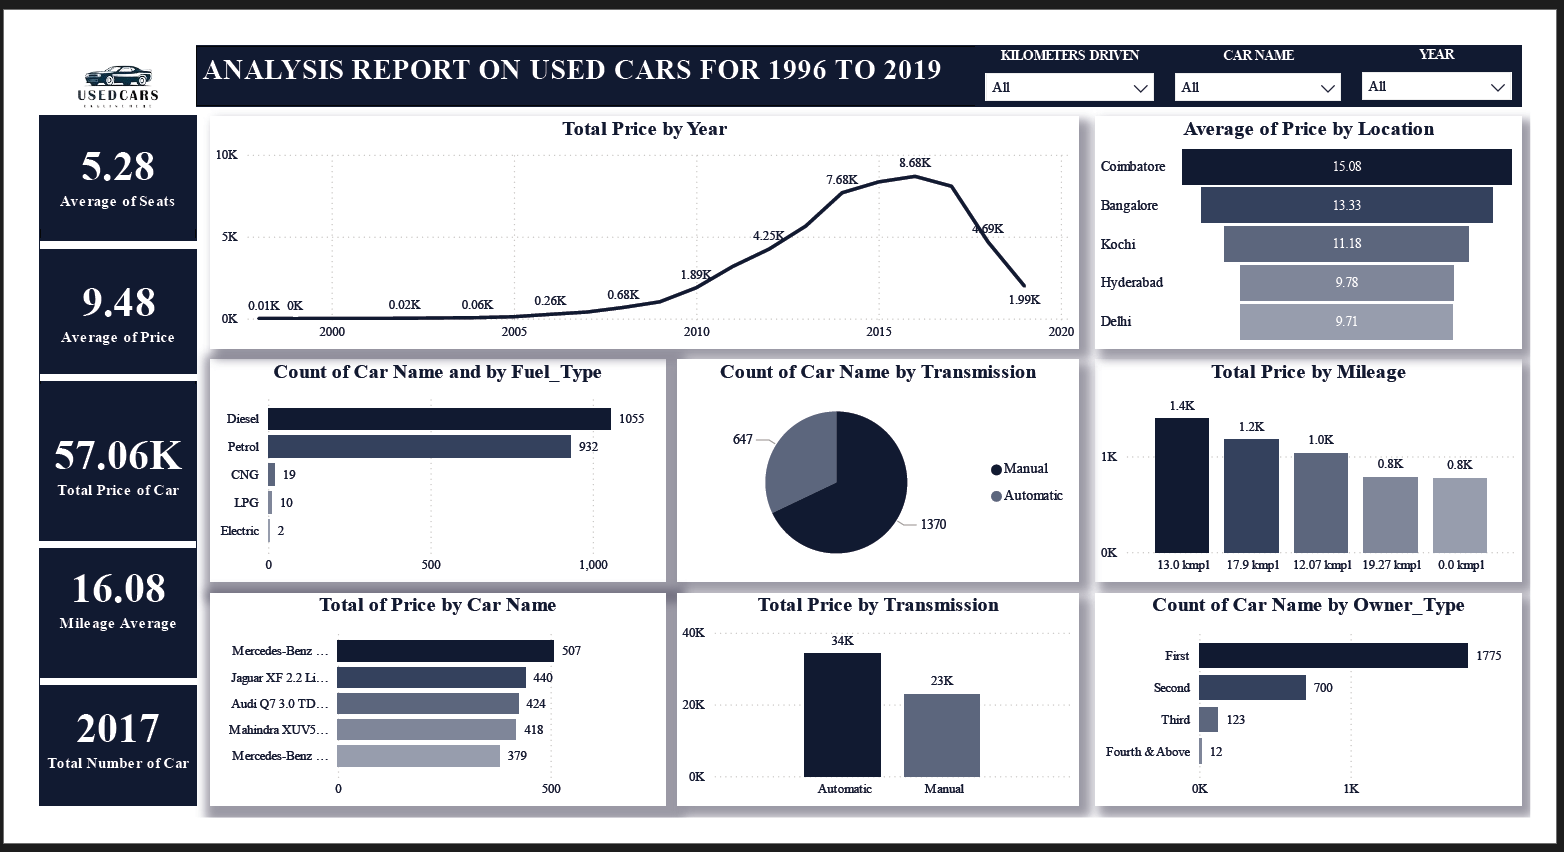

The dashboard page shown, as its layout file describes it:
{"tool":"powerbi","page":{"name":"Dashbaord","canvas":[1420,740],"ordinal":0},"visuals":[{"type":"textbox","box":[9.8,77.2,147.8,652.2],"z":0},{"type":"textbox","box":[157.6,9.8,1244.6,57.6],"z":1000},{"type":"clusteredBarChart","title":"Count of Car Name and by Fuel_Type","fields":{"Category":["used_cars_data (1).Fuel_Type"],"Y":["Count(used_cars_data (1).Name)"]},"box":[170.7,306.5,431.5,210.9],"z":2000},{"type":"lineChart","title":"Total Price by Year","fields":{"Category":["used_cars_data (1).Year"],"Y":["Sum(used_cars_data (1).Price)"]},"box":[170.7,77.2,822.8,218.5],"z":3000},{"type":"columnChart","title":"Total Price by Mileage","fields":{"Category":["used_cars_data (1).Mileage"],"Y":["Sum(used_cars_data (1).Price)"]},"box":[1008.7,306.5,403.3,210.9],"z":4000},{"type":"funnel","fields":{"Category":["used_cars_data (1).Location"],"Y":["Avg(used_cars_data (1).Price)"]},"box":[1008.7,77.2,403.3,218.5],"z":5000},{"type":"pieChart","title":"Count of Car Name by Transmission","fields":{"Category":["used_cars_data (1).Transmission"],"Y":["Count(used_cars_data (1).Name)"]},"box":[613,306.5,380.4,210.9],"z":6000},{"type":"clusteredBarChart","title":"Total of Price by Car Name","fields":{"Category":["used_cars_data (1).Name"],"Y":["Sum(used_cars_data (1).Price)"]},"box":[170.7,528.3,431.5,201.1],"z":7000},{"type":"columnChart","title":"Total Price by Transmission","fields":{"Category":["used_cars_data (1).Transmission"],"Y":["Sum(used_cars_data (1).Price)"]},"box":[613,528.3,380.4,201.1],"z":8000},{"type":"clusteredBarChart","title":"Count of  Car Name by Owner_Type","fields":{"Category":["used_cars_data (1).Owner_Type"],"Y":["Count(used_cars_data (1).Name)"]},"box":[1008.7,528.3,403.3,201.1],"z":9000},{"type":"image","box":[9.8,0,147.8,107.6],"z":10000},{"type":"slicer","title":"YEAR","fields":{"Values":["used_cars_data (1).Year"]},"box":[1251.1,9.8,160.9,57.6],"z":11000},{"type":"slicer","title":"CAR NAME","fields":{"Values":["used_cars_data (1).Name"]},"box":[1073.9,10.9,177.2,56.5],"z":12000},{"type":"slicer","title":"KILOMETERS DRIVEN","fields":{"Values":["used_cars_data (1).Kilometers_Driven"]},"box":[894.6,10.9,179.3,56.5],"z":13000},{"type":"card","fields":{"Values":["Avg(used_cars_data (1).Seats)"]},"box":[9.8,76.1,147.8,106.5],"z":14000},{"type":"card","fields":{"Values":["Avg(used_cars_data (1).Price)"]},"box":[10.9,192.4,146.7,131.5],"z":15000},{"type":"card","fields":{"Values":["Sum(used_cars_data (1).Price)"]},"box":[9.8,330.4,147.8,144.6],"z":16000},{"type":"card","fields":{"Values":["used_cars_data (1).Count of Mileage average per Mileage"]},"box":[10.9,462,146.7,132.6],"z":17000},{"type":"card","fields":{"Values":["Count(used_cars_data (1).Name)"]},"box":[9.8,592.4,147.8,137],"z":18000},{"type":"shape","box":[10.9,192.4,146.7,13],"z":19000},{"type":"shape","box":[10.9,317.4,146.7,13],"z":20000},{"type":"shape","box":[9.8,475,146.7,13],"z":21000},{"type":"shape","box":[10.9,605.4,146.7,13],"z":22000}]}

Visuals, with their boxes on the page's 1420x740 design canvas (x1, y1, x2, y2). These are canvas units, not pixel positions in the 1564x852 screenshot, which may show the page scaled, cropped or inside an application window:
textbox: Rect(10, 77, 158, 729)
textbox: Rect(158, 10, 1402, 67)
"Count of Car Name and by Fuel_Type" clusteredBarChart: Rect(171, 306, 602, 517)
"Total Price by Year" lineChart: Rect(171, 77, 994, 296)
"Total Price by Mileage" columnChart: Rect(1009, 306, 1412, 517)
funnel - used_cars_data (1).Location x Avg(used_cars_data (1).Price): Rect(1009, 77, 1412, 296)
"Count of Car Name by Transmission" pieChart: Rect(613, 306, 993, 517)
"Total of Price by Car Name" clusteredBarChart: Rect(171, 528, 602, 729)
"Total Price by Transmission" columnChart: Rect(613, 528, 993, 729)
"Count of  Car Name by Owner_Type" clusteredBarChart: Rect(1009, 528, 1412, 729)
image: Rect(10, 0, 158, 108)
"YEAR" slicer: Rect(1251, 10, 1412, 67)
"CAR NAME" slicer: Rect(1074, 11, 1251, 67)
"KILOMETERS DRIVEN" slicer: Rect(895, 11, 1074, 67)
card - Avg(used_cars_data (1).Seats): Rect(10, 76, 158, 183)
card - Avg(used_cars_data (1).Price): Rect(11, 192, 158, 324)
card - Sum(used_cars_data (1).Price): Rect(10, 330, 158, 475)
card - used_cars_data (1).Count of Mileage average per Mileage: Rect(11, 462, 158, 595)
card - Count(used_cars_data (1).Name): Rect(10, 592, 158, 729)
shape: Rect(11, 192, 158, 205)
shape: Rect(11, 317, 158, 330)
shape: Rect(10, 475, 156, 488)
shape: Rect(11, 605, 158, 618)
